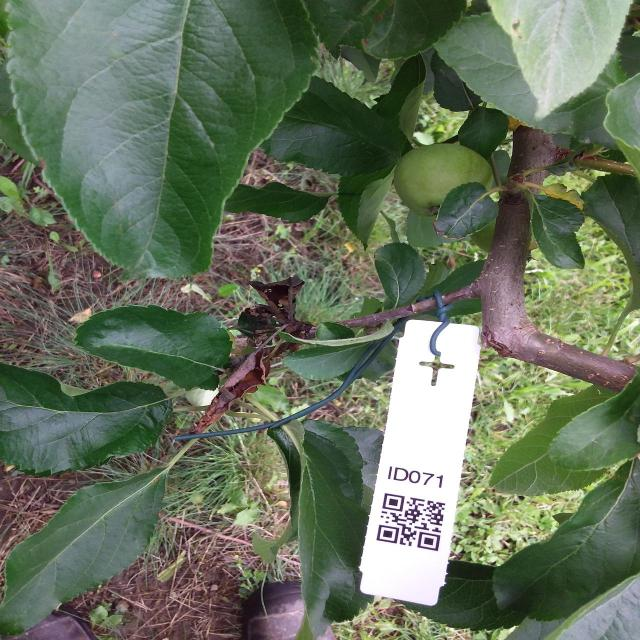-FireBlight-: (192, 278, 314, 435)
